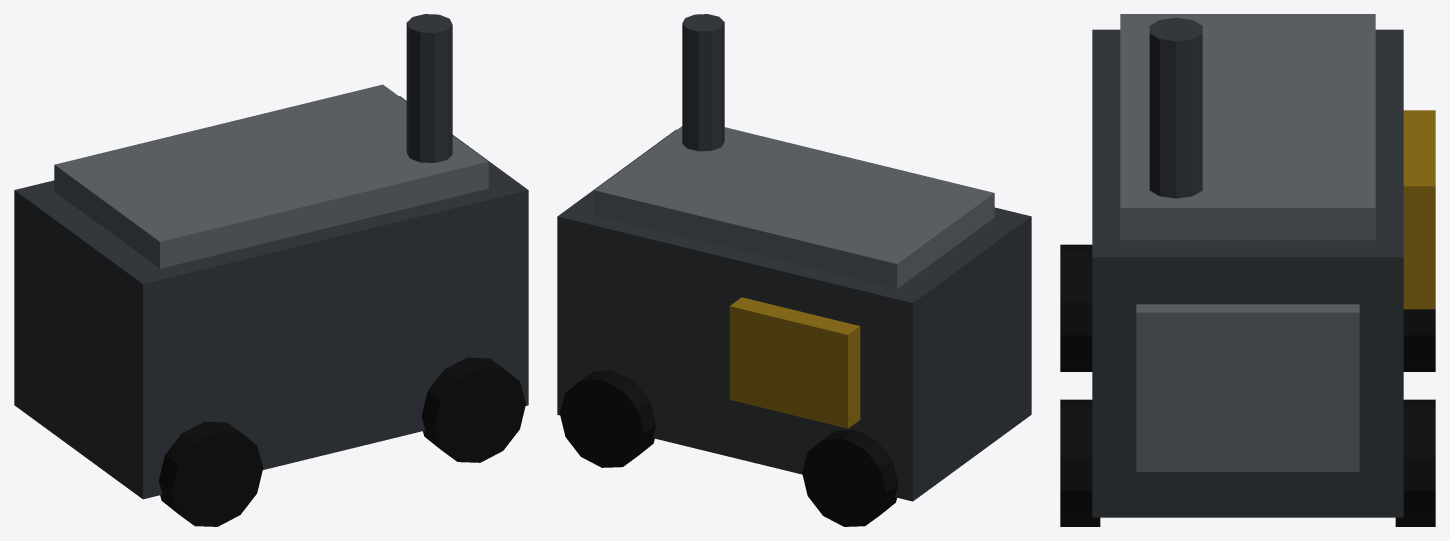
The model's file is AUR_Generator.obj.
3 renders of one model, left to right at view 1: azimuth 30°, elevation 25°; view 2: azimuth 150°, elevation 25°; view 3: azimuth 270°, elevation 25°, orthographic. The views are drawn at different scales.
Visible parts, largest first — view 1: body_0, top_1, wheel_5, wheel_7, exhaust_8; view 2: body_0, top_1, panel_3, wheel_4, wheel_6, exhaust_8; view 3: body_0, top_1, radiator_2, exhaust_8, panel_3, wheel_6, wheel_7, wheel_5, wheel_4.
Part boxes in pixels (box(x1,y1,x2,y2)): body_0: box(14, 96, 528, 499); top_1: box(54, 84, 488, 268); wheel_5: box(158, 421, 263, 526); wheel_7: box(421, 357, 525, 462); exhaust_8: box(406, 14, 452, 162); body_0: box(557, 129, 1031, 501); top_1: box(594, 126, 994, 288); panel_3: box(729, 297, 860, 428); wheel_4: box(802, 430, 898, 526); wheel_6: box(560, 370, 655, 467); exhaust_8: box(682, 14, 724, 151); body_0: box(1092, 29, 1403, 517); top_1: box(1120, 14, 1375, 240); radiator_2: box(1136, 304, 1359, 471); exhaust_8: box(1149, 17, 1202, 198); panel_3: box(1403, 110, 1435, 309); wheel_6: box(1395, 399, 1435, 526); wheel_7: box(1060, 399, 1100, 526); wheel_5: box(1060, 244, 1092, 371); wheel_4: box(1403, 309, 1435, 371).
Size of the model in its own units: 1.4 by 1.36 by 0.94.
